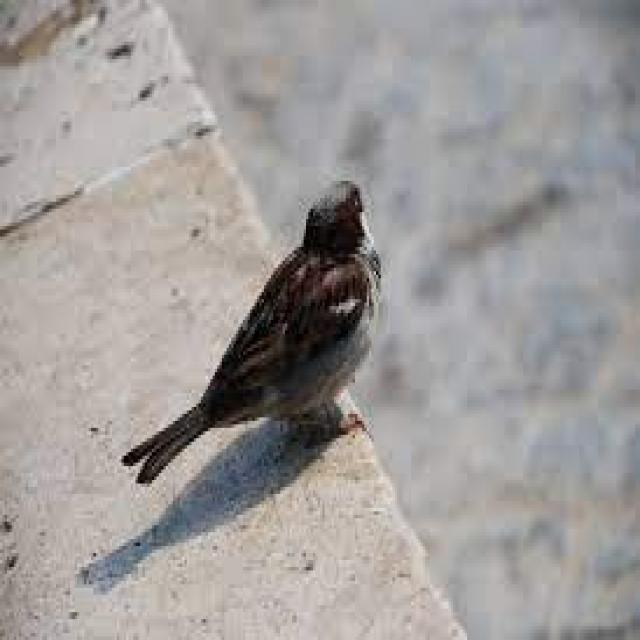bird: (44, 68, 453, 610)
